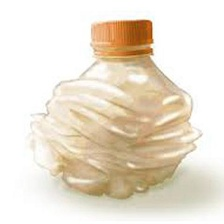bottle: (22, 10, 213, 207)
